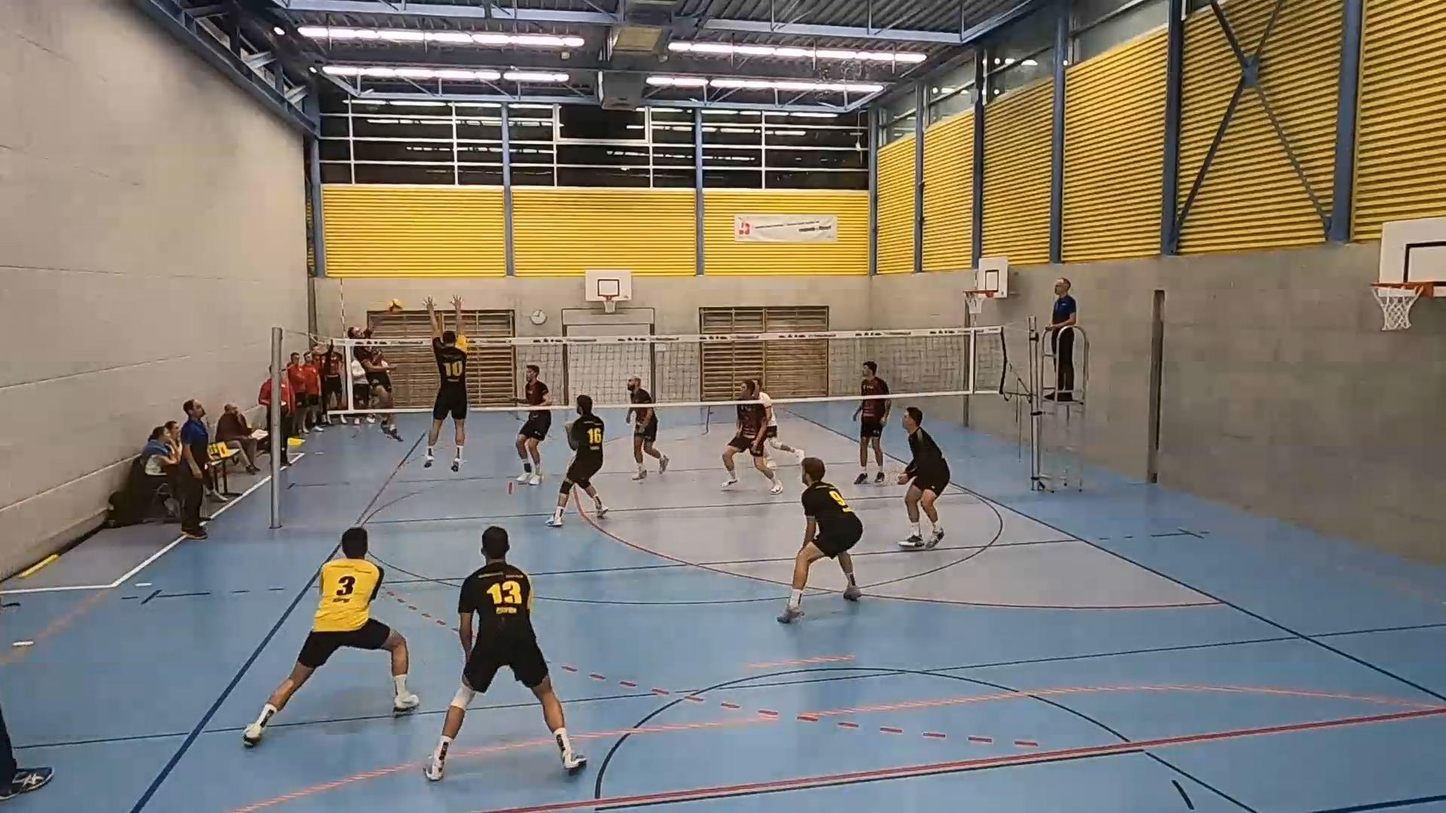attacco: (344, 300, 404, 445)
muro: (431, 302, 472, 477)
